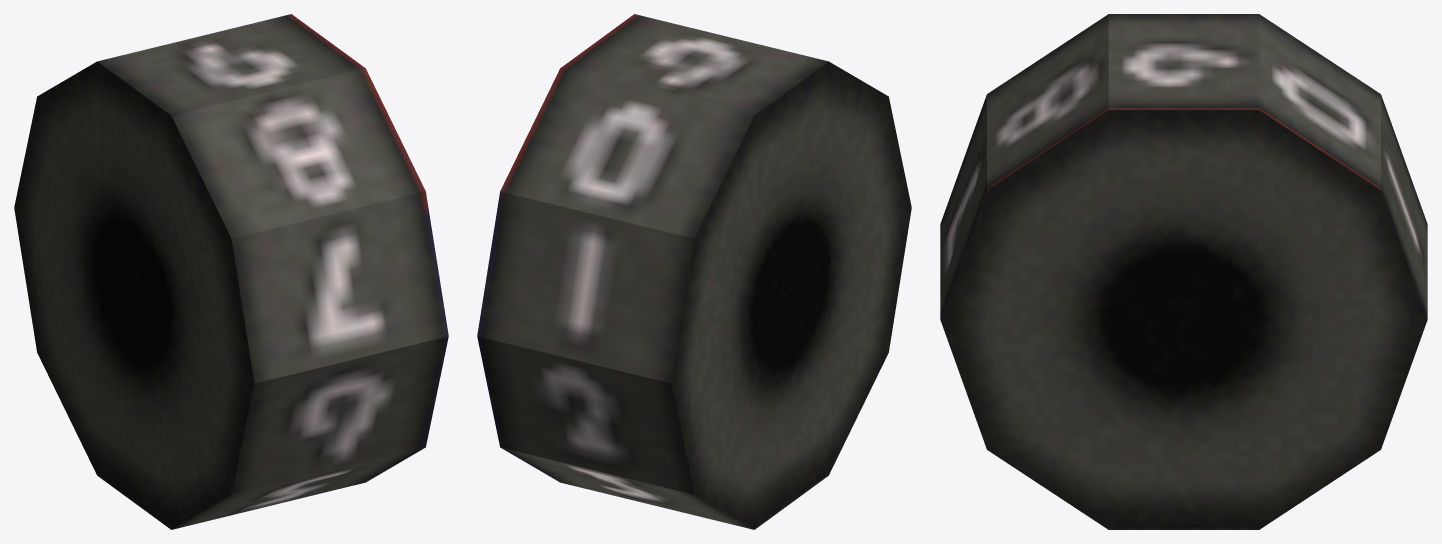
File: padlockwheel.fbx
3 views of the same model, side by side, from view 1: azimuth 30°, elevation 25°; view 2: azimuth 150°, elevation 25°; view 3: azimuth 270°, elevation 25° (orthographic).
Visible parts, largest first — view 1: Padlock Wheel; view 2: Padlock Wheel; view 3: Padlock Wheel.
Part boxes in pixels (x1,y1,x2,y2): Padlock Wheel: (14, 14, 448, 529); Padlock Wheel: (477, 14, 911, 529); Padlock Wheel: (940, 14, 1427, 529).
Size of the model in its own units: 0.1489 by 0.3189 by 0.3033.
Materials: 1 (1 with a texture image).
